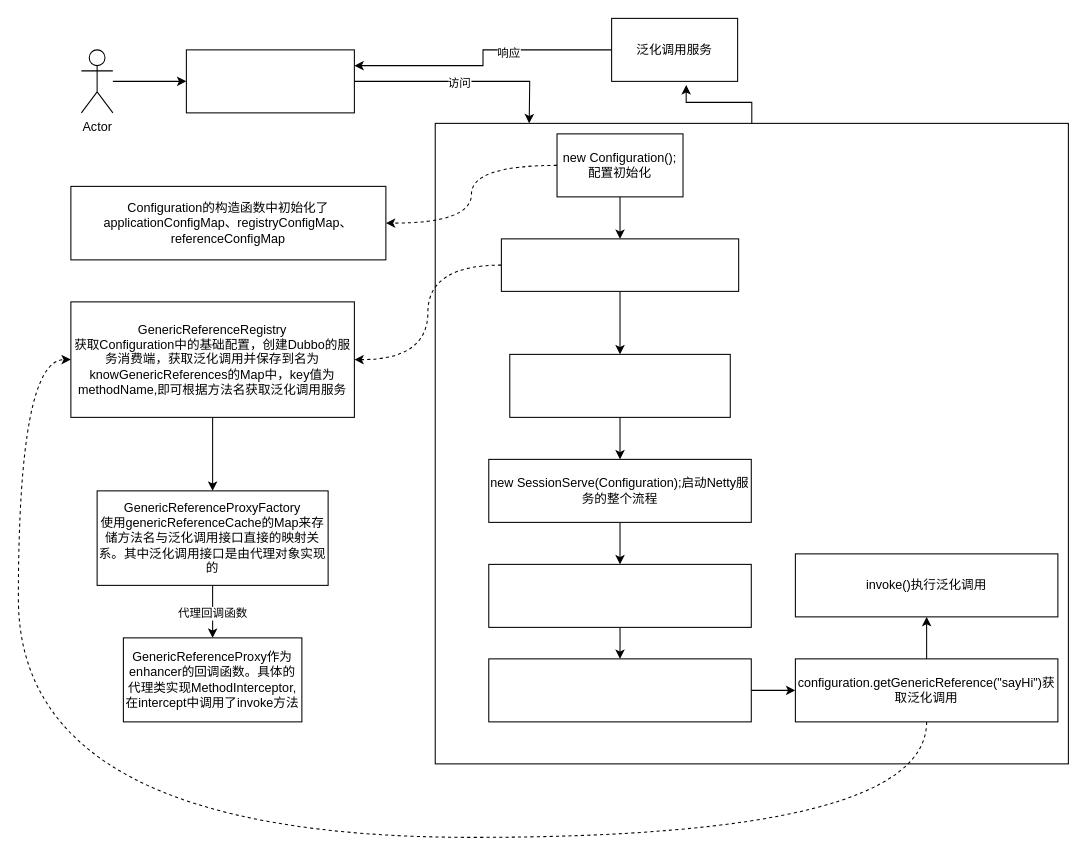
This 1087x856 diagram has some shape labels left out. Each missing label, with the centre of its shape:
"addGenericReferce绑定方法名和泛化调用服务" belongs at (x=619, y=264).
"GenericReferenceSessionFactory打开会话" belongs at (x=619, y=385).
"new SessionServeHandler(Configuration);创建处理器" belongs at (x=619, y=690).
"SessionChanalInitial(Configuration);初始化" belongs at (x=619, y=595).
"发起请求 http://localhost:7397/sayHi" belongs at (x=269, y=81).
